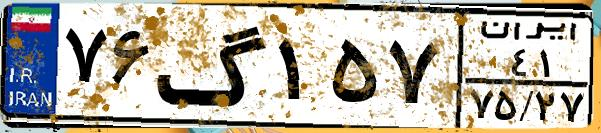1: (270, 28, 330, 110), (537, 27, 568, 80)
2: (535, 70, 560, 125)
4: (508, 27, 537, 80)
5: (330, 28, 385, 110), (495, 70, 520, 125)
6: (110, 28, 156, 98)
7: (385, 28, 445, 110), (57, 26, 110, 100), (560, 70, 590, 125), (470, 70, 495, 125)
گ: (156, 12, 270, 120)
